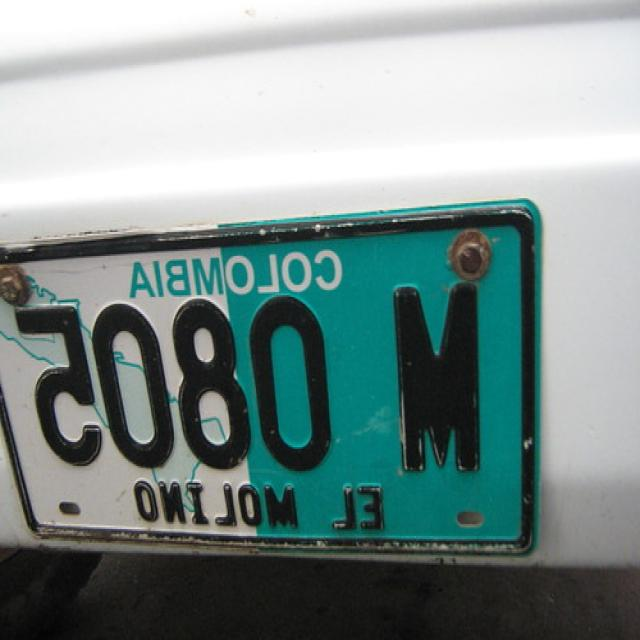placas: (0, 270, 519, 480)
